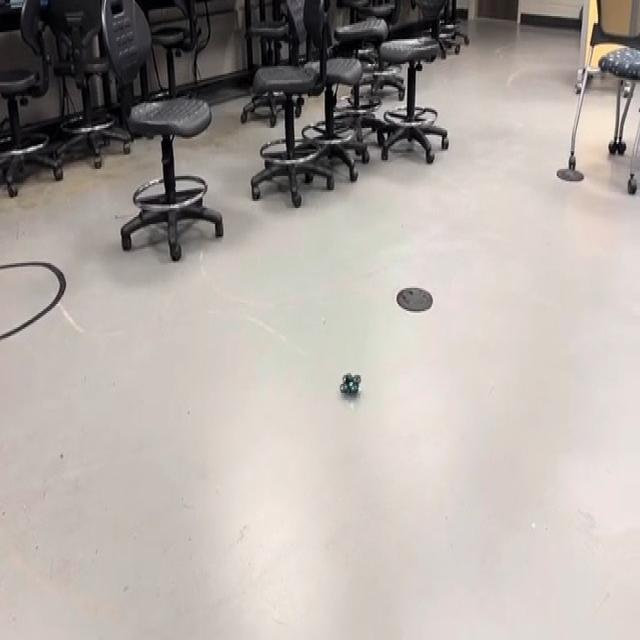drone: (330, 352, 370, 412)
